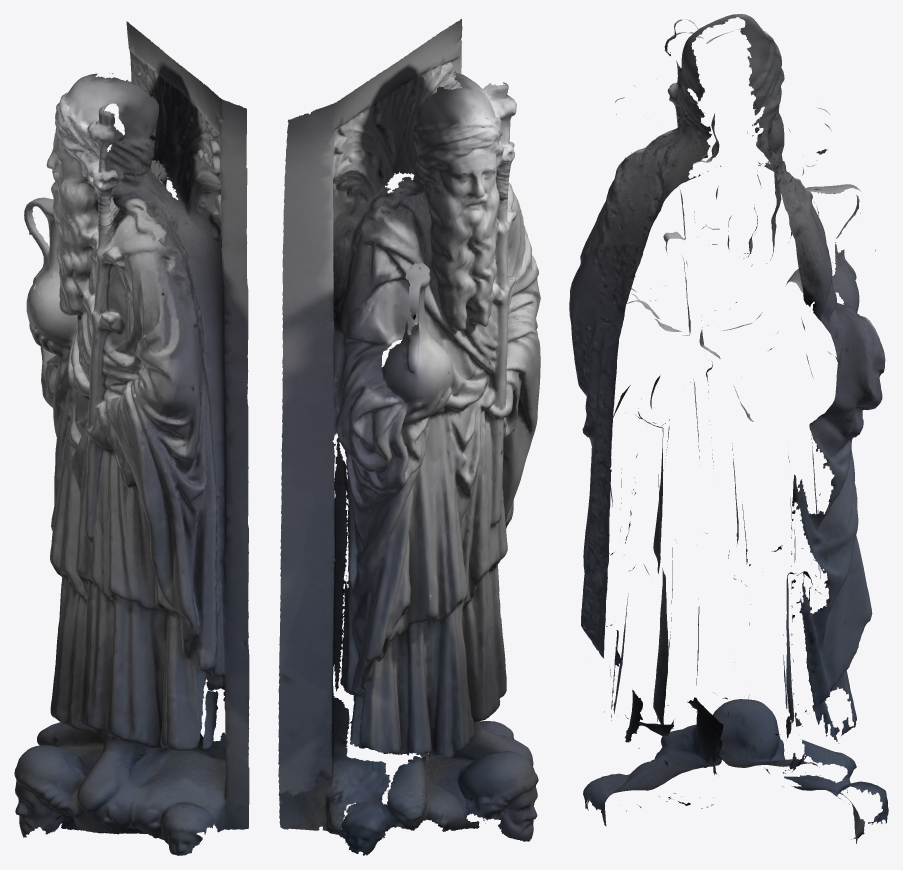
Rendered from old_man.glb.
The picture shows the model from 3 angles, left to right: view 1: azimuth 30°, elevation 25°; view 2: azimuth 150°, elevation 25°; view 3: azimuth 270°, elevation 25°; orthographic projection. The views are drawn at different scales.
Bounding box in the file's own units: 0.7206 × 2.66 × 0.9526.
1 material, 1 textured.
